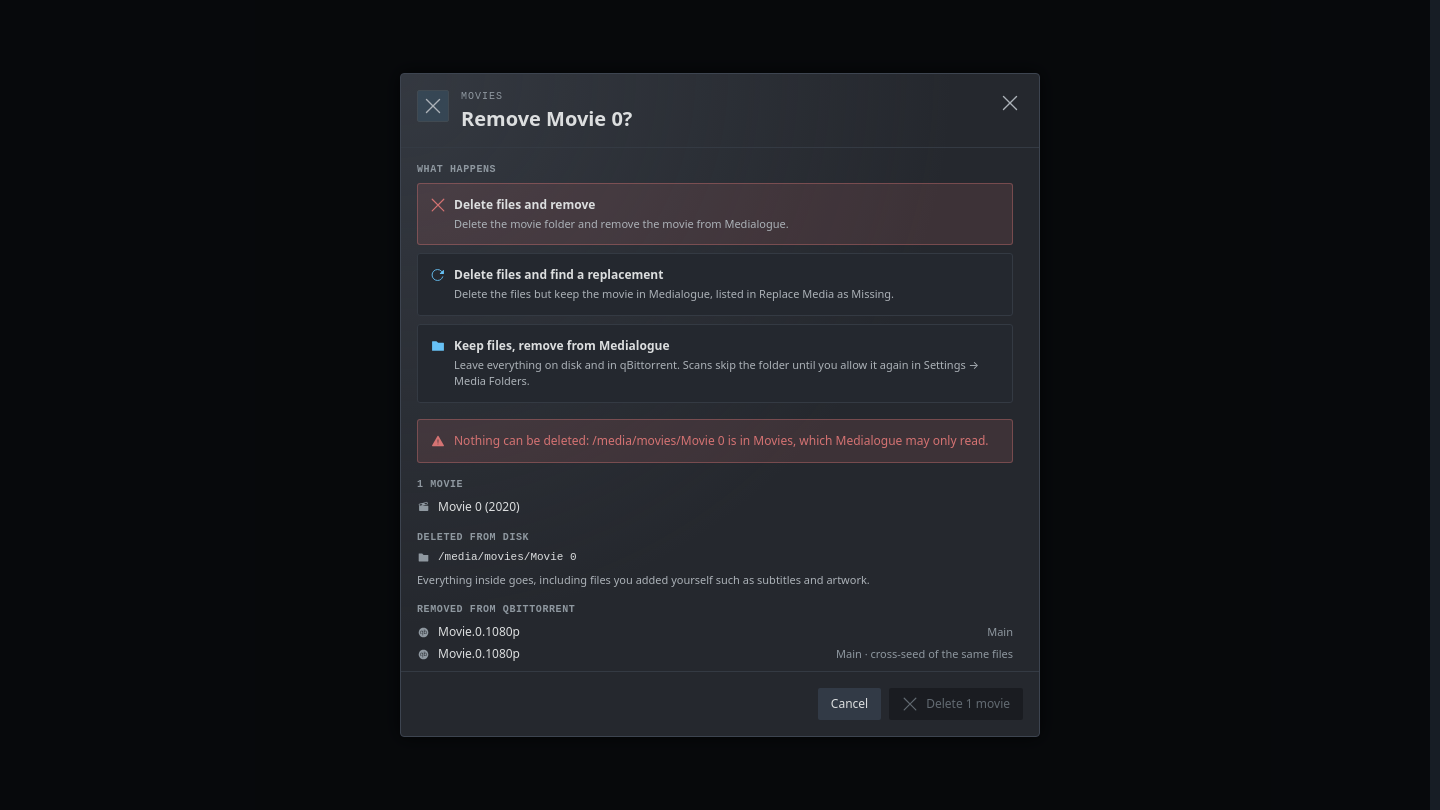
Test case: RemoveTitlesModal › keeping the files leaves qBittorrent out of it and is not stopped by a read-only folder
The width and height of the screenshot is (1440, 810).
Later steps or results of the test are not shown.
Check: the button "Delete 1 movie" is disabled, box [889,688,1023,720]
Step 1. Click the radio button labelled "Keep files, remove from Medialogue" → {"x": 715, "y": 363}, box [417,324,1013,403]
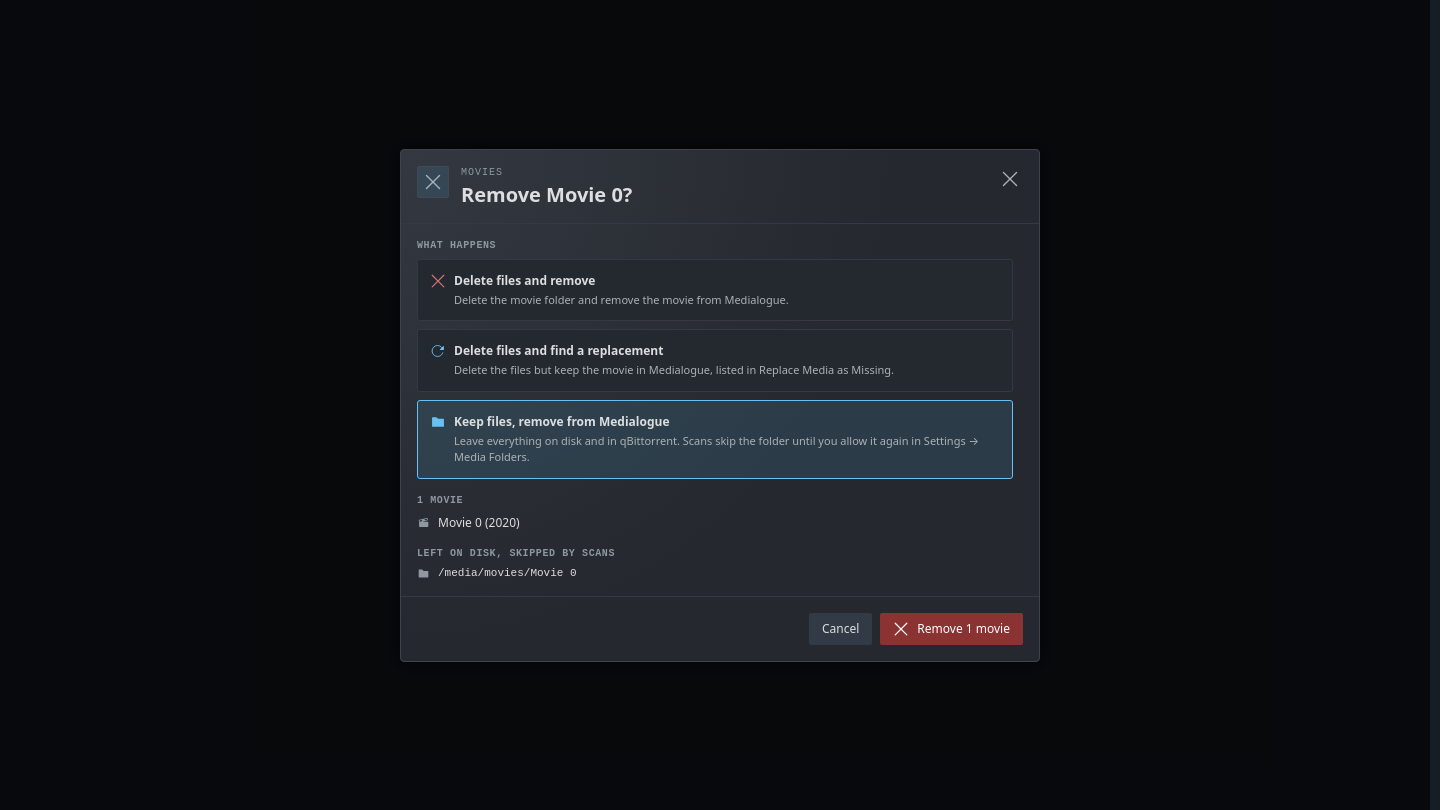
Check: the heading "Left on disk, skipped by scans" is shown, box [417,548,615,558]
Check: the heading "Removed from qBittorrent" is gone
Check: the button "Remove 1 movie" is enabled, box [880,612,1023,644]
